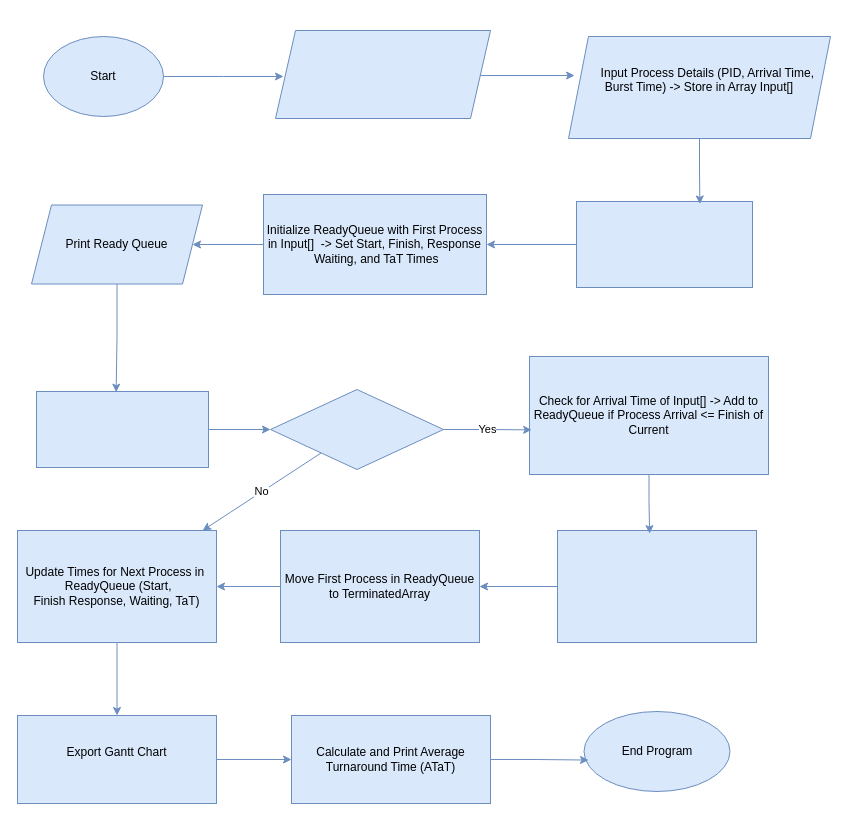
This 848x821 diagram has some shape labels left out. Each missing label, with the centre of its shape:
Input Number of Processes (n) -> Store in iNumberOfProcess: [382,74]
iRemain > 0?: [357,429]
Sort Input Array by Arrival Time (Ascending): [664,244]
Sort ReadyQueue by Burst Time (SJF): [656,586]
While (iTerminated < n): [122,429]
